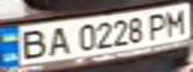0: (72, 20, 96, 52)
2: (93, 18, 115, 51), (112, 16, 133, 47)
8: (127, 15, 148, 44)
A: (42, 24, 72, 56)
B: (12, 26, 51, 61)
M: (160, 6, 190, 36)
P: (142, 10, 172, 40)
